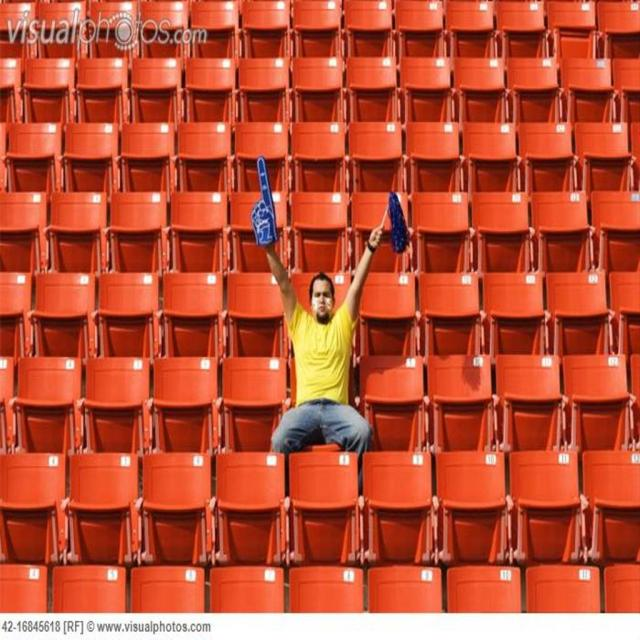nomask: (311, 283, 331, 318)
